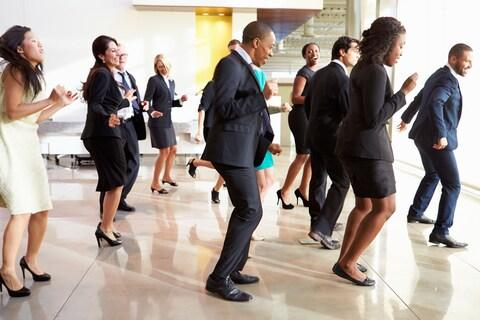No_Helmet: (368, 14, 410, 39), (90, 32, 123, 48), (246, 21, 277, 37), (448, 39, 474, 54), (333, 34, 356, 49), (302, 39, 319, 51)
No_Shoe: (97, 224, 125, 251), (26, 256, 51, 284)
